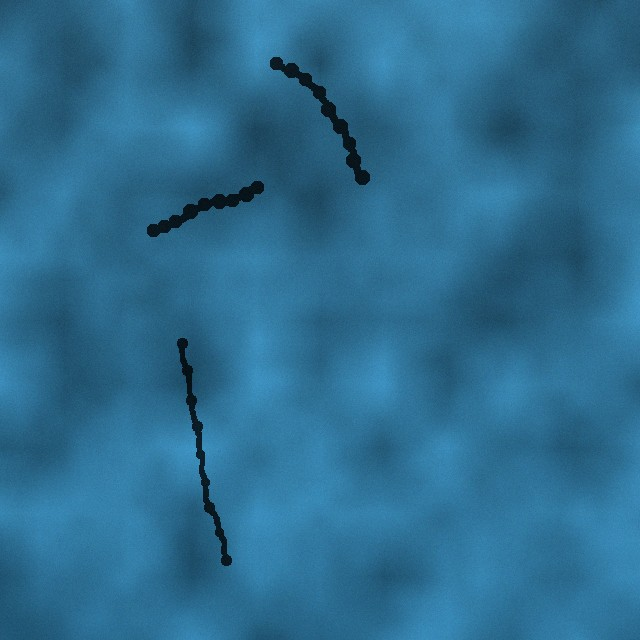crack: (269, 56, 370, 187), (176, 336, 231, 565), (146, 179, 266, 237)
